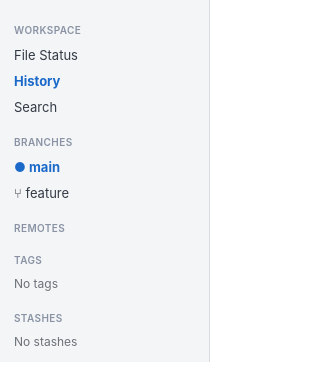
Test: Sidebar branch context menu › shows checkout/merge/rename/delete for a non-current branch
This screenshot has width=320, height=379.
Right-click the text "⑂ feature".
right_click(42, 193)  # box [14,185,69,201]
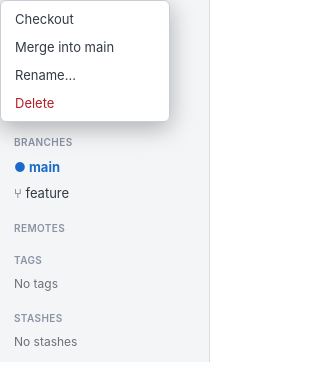
Now the text "Checkout" is shown, box [15,11,74,27]
Now the text "Merge into main" is shown, box [15,39,114,55]
Now the text "Rename…" is shown, box [15,67,76,83]
